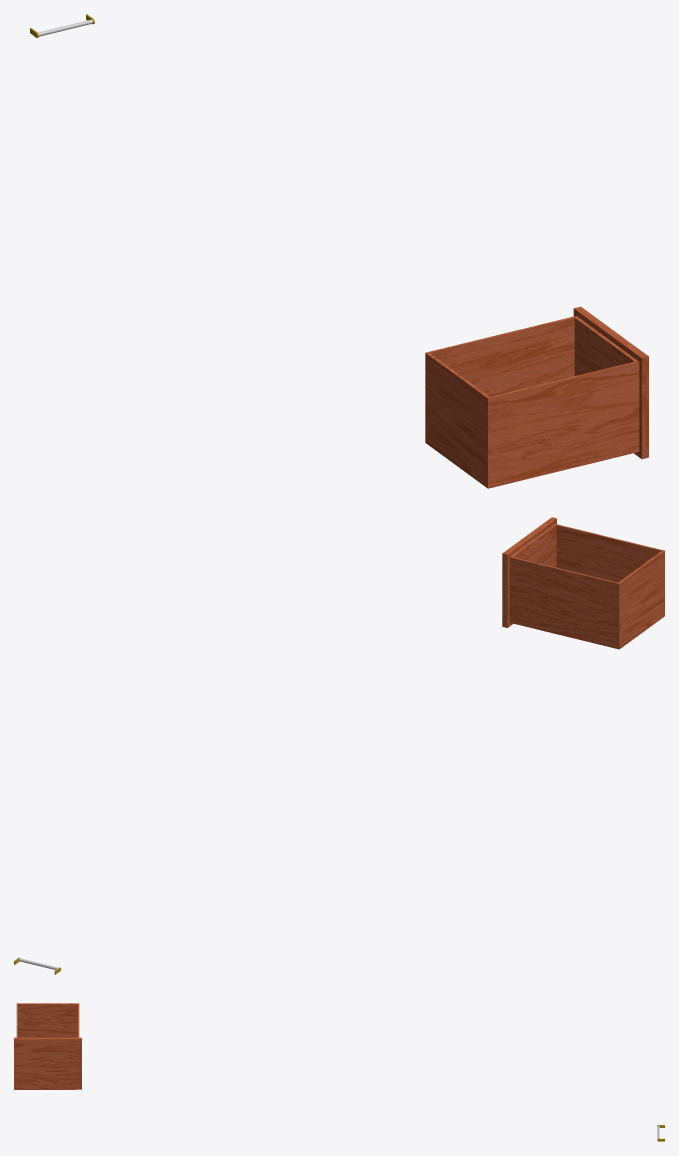
Rendered from Drawer_e9cba4ba.obj.
3 views of the same model, one above another, from view 1: azimuth 30°, elevation 25°; view 2: azimuth 150°, elevation 25°; view 3: azimuth 270°, elevation 25° (orthographic). The views are drawn at different scales.
Parts seen in each view (by area): view 1: DrawerMesh_01_066579b8; view 2: DrawerMesh_01_066579b8; view 3: DrawerMesh_01_066579b8.
Part boxes in pixels (x1,y1,x2,y2): DrawerMesh_01_066579b8: (425,306,648,488); DrawerMesh_01_066579b8: (502,517,664,649); DrawerMesh_01_066579b8: (14,1003,81,1089).
Size of the model in its own units: 0.7672 by 0.4769 by 3.49.
